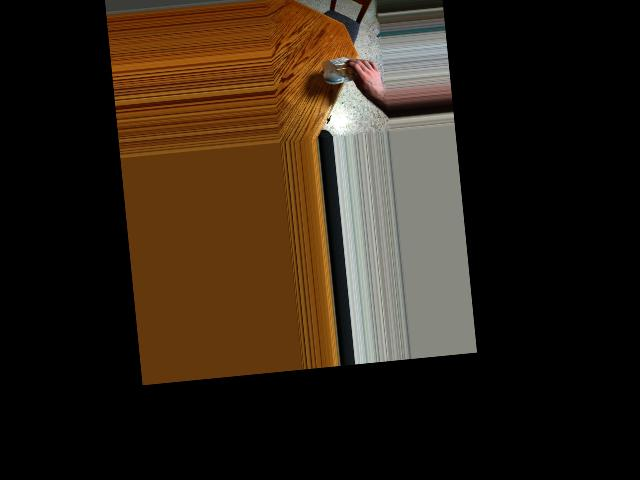cheese: (320, 46, 363, 101)
